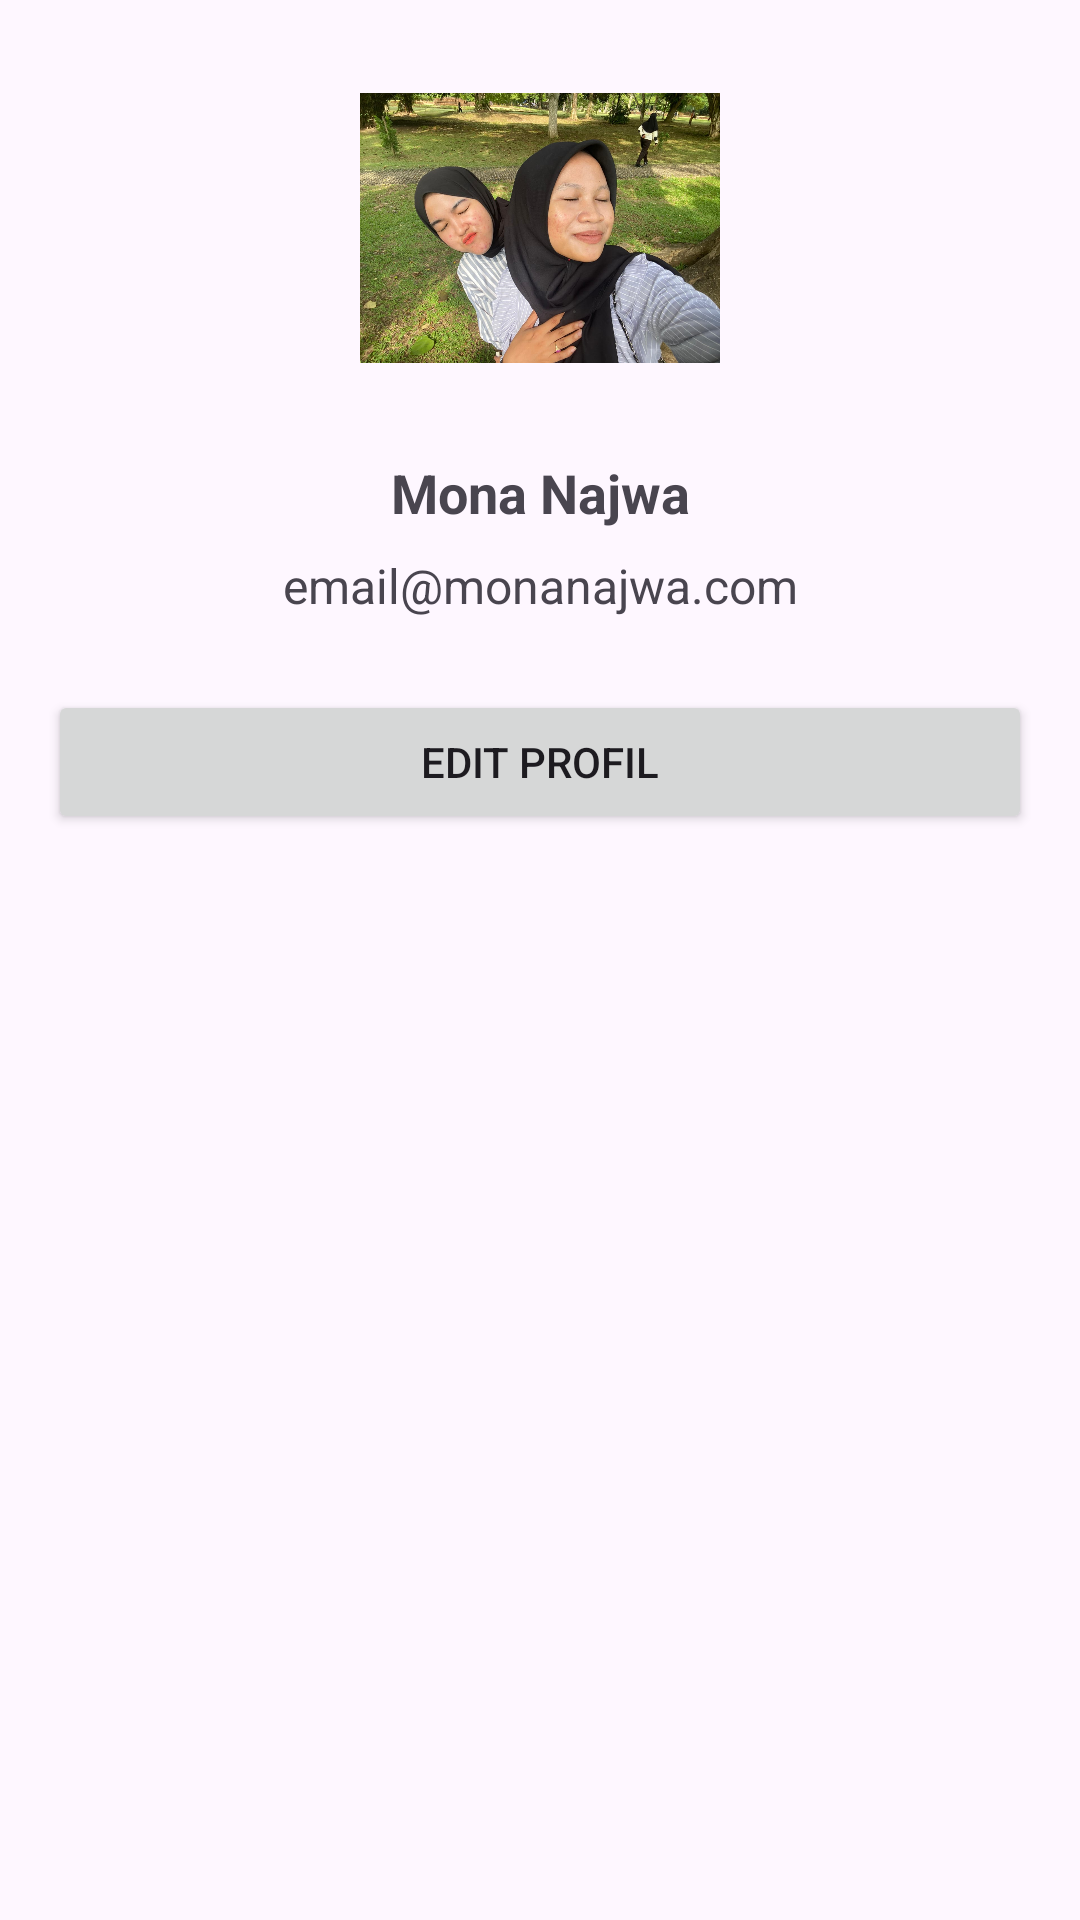

Screen size 1080x1920. Icon name, then its center in pixels as (x,y):
profile: (540,228)
